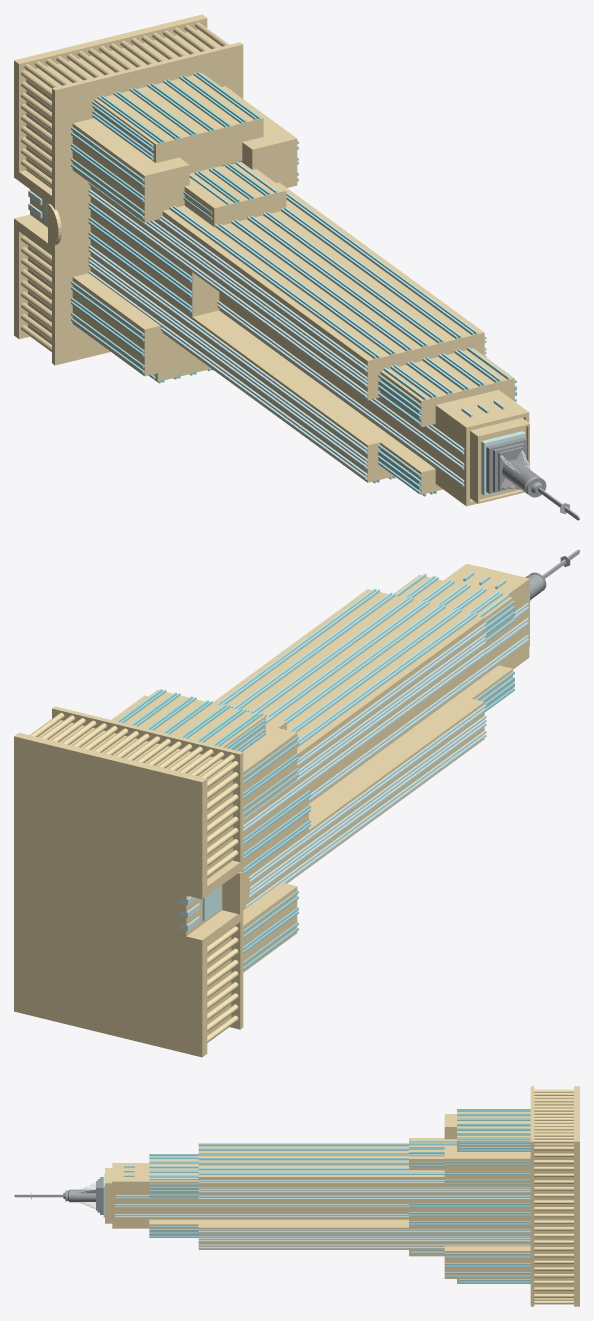
File: tinker.obj
3 renders of one model, top to bottom at view 1: azimuth 30°, elevation 25°; view 2: azimuth 150°, elevation 25°; view 3: azimuth 270°, elevation 25°, orthographic. The views are drawn at different scales.
Parts seen in each view (by area): view 1: group_0_16311991, group_0_14481914, group_0_13237759, group_0_11593967, group_0_11793909, group_0_10988977, group_0_14482170; view 2: group_0_16311991, group_0_14481914, group_0_13237759, group_0_11593967, group_0_11793909; view 3: group_0_16311991, group_0_14481914, group_0_13237759, group_0_11593967, group_0_11793909, group_0_10988977.
Part boxes in pixels (<box>): group_0_16311991: <box>14,14,529,506</box>; group_0_14481914: <box>28,182,486,486</box>; group_0_13237759: <box>169,162,509,496</box>; group_0_11593967: <box>71,80,516,493</box>; group_0_11793909: <box>97,72,270,383</box>; group_0_10988977: <box>486,437,546,497</box>; group_0_14482170: <box>481,431,525,495</box>; group_0_16311991: <box>14,563,529,1057</box>; group_0_14481914: <box>179,603,528,931</box>; group_0_13237759: <box>216,572,509,747</box>; group_0_11593967: <box>118,601,514,970</box>; group_0_11793909: <box>117,689,266,746</box>; group_0_16311991: <box>105,1086,579,1306</box>; group_0_14481914: <box>115,1180,530,1248</box>; group_0_13237759: <box>123,1140,456,1180</box>; group_0_11593967: <box>149,1141,530,1283</box>; group_0_11793909: <box>409,1109,530,1154</box>; group_0_10988977: <box>63,1177,103,1214</box>.
Bounding box in the file's own units: 107 × 148 × 460.
